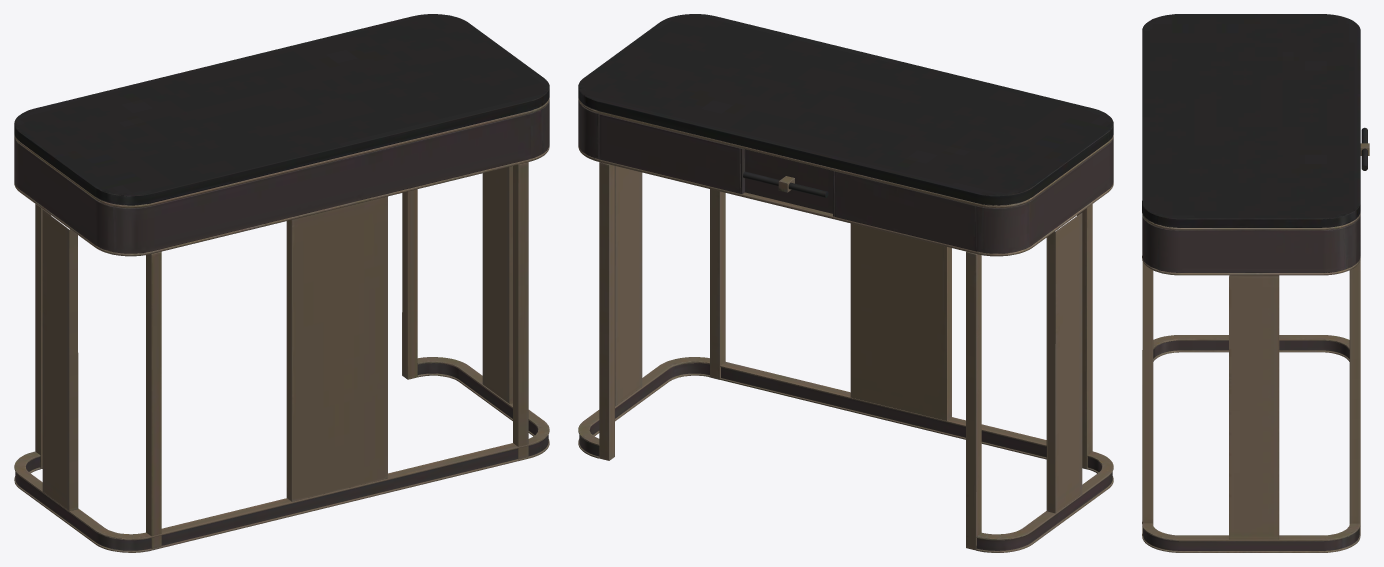
3 renders of one model, left to right at view 1: azimuth 30°, elevation 25°; view 2: azimuth 150°, elevation 25°; view 3: azimuth 270°, elevation 25°, orthographic. The views are drawn at different scales.
Parts seen in each view (by area): view 1: solid_001; view 2: solid_001; view 3: solid_001.
Part boxes in pixels (bbox=[...]): solid_001: bbox=[14, 14, 549, 552]; solid_001: bbox=[578, 14, 1113, 552]; solid_001: bbox=[1142, 14, 1369, 552].
Size of the model in its own units: 1.59 by 1.21 by 0.7447.
Materials: 1 (1 with a texture image).
